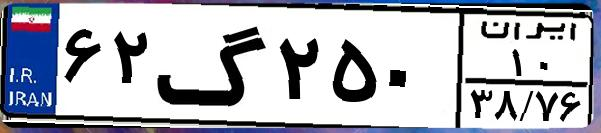0: (385, 28, 445, 110), (537, 27, 568, 80)
1: (508, 27, 537, 80)
2: (270, 28, 330, 110), (110, 28, 156, 98)
3: (470, 70, 495, 125)
5: (330, 28, 385, 110)
6: (57, 26, 110, 100), (560, 70, 590, 125)
7: (535, 70, 560, 125)
8: (495, 70, 520, 125)
گ: (156, 12, 270, 120)
